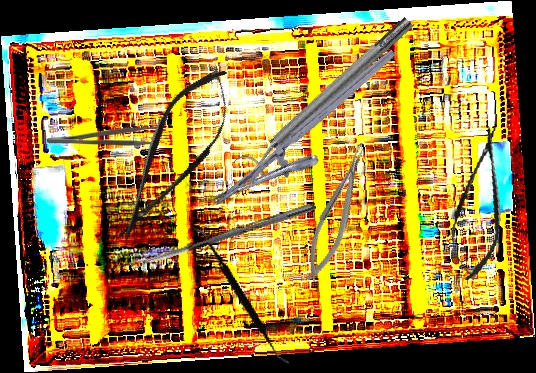Dressing Forceps: (47, 126, 159, 146)
Fixation Ring: (230, 8, 423, 188)
Micro Scissor: (95, 54, 252, 257), (444, 123, 515, 284)
Needle Holder: (210, 47, 418, 232), (294, 143, 379, 287)
Spatula Surgical: (154, 225, 325, 366)
Surgical Spoon: (129, 201, 317, 270)
